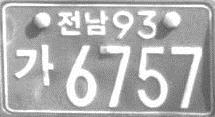3: (135, 10, 158, 40)
5: (137, 45, 168, 108)
6: (65, 44, 97, 108)
7: (168, 45, 204, 110), (97, 44, 131, 108)
9: (110, 9, 135, 40)
가: (13, 44, 55, 88)
전남_O: (57, 9, 109, 37)
